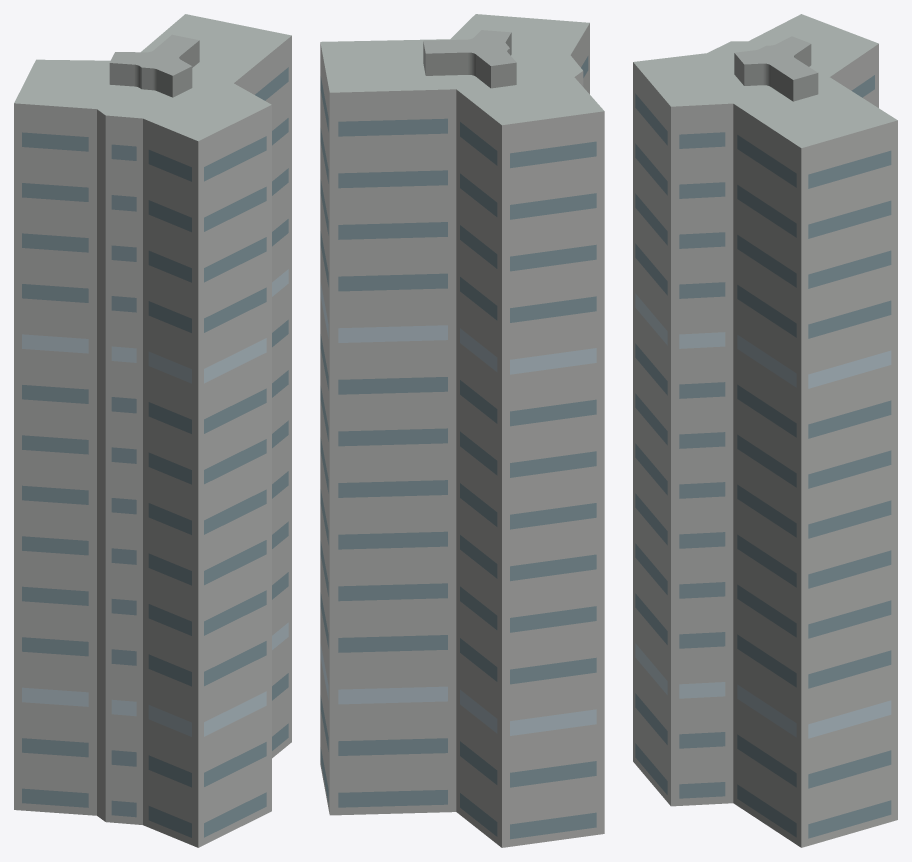
The model's file is fallback-gangdong-lotte-castle-first-130.glb.
3 views of the same model, side by side, from view 1: azimuth 30°, elevation 25°; view 2: azimuth 150°, elevation 25°; view 3: azimuth 270°, elevation 25° (orthographic). The views are drawn at different scales.
Visible parts, largest first — view 1: fallback-gangdong-lotte-castle-first-130; view 2: fallback-gangdong-lotte-castle-first-130; view 3: fallback-gangdong-lotte-castle-first-130.
Boxes of the visible parts, x1=… form: fallback-gangdong-lotte-castle-first-130: x1=14, y1=14, x2=291, y2=847; fallback-gangdong-lotte-castle-first-130: x1=320, y1=14, x2=604, y2=847; fallback-gangdong-lotte-castle-first-130: x1=633, y1=14, x2=897, y2=847.
Bounding box in the file's own units: 31.95 × 80 × 26.62.
